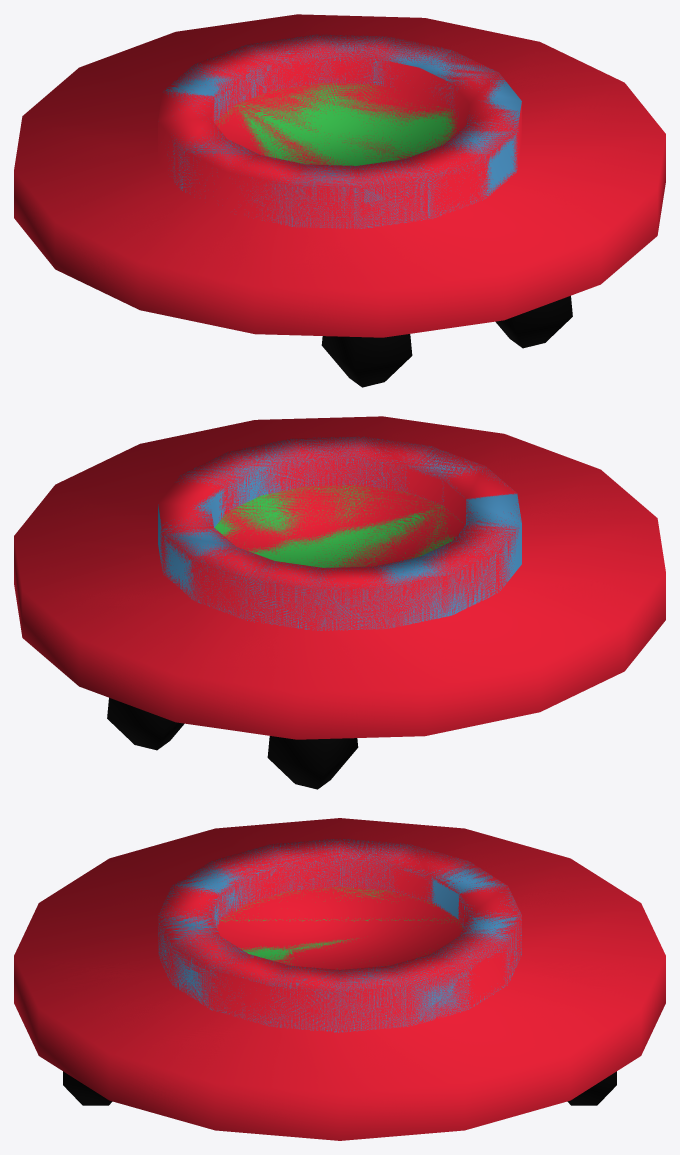
Rendered from jumppad.fbx.
3 views of the same model, one above another, from view 1: azimuth 30°, elevation 25°; view 2: azimuth 150°, elevation 25°; view 3: azimuth 270°, elevation 25° (orthographic).
Parts seen in each view (by area): view 1: Circle; view 2: Circle; view 3: Circle.
Part boxes in pixels (x1,y1,x2,y2): Circle: (14,14,665,387); Circle: (14,416,665,789); Circle: (14,818,665,1140).
Size of the model in its own units: 200 by 52.07 by 200.
